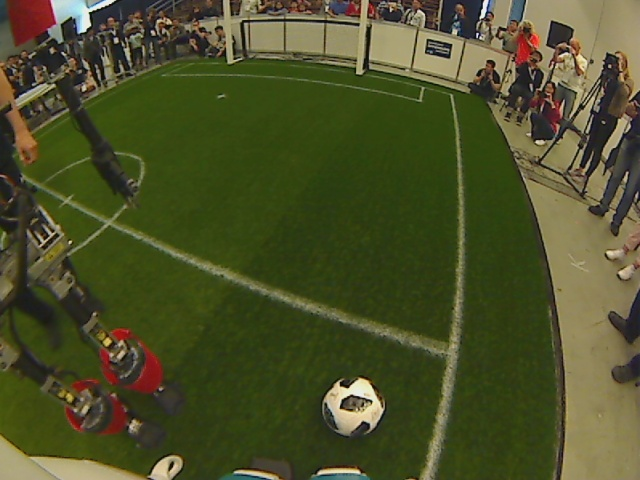ball: (319, 374, 385, 440)
